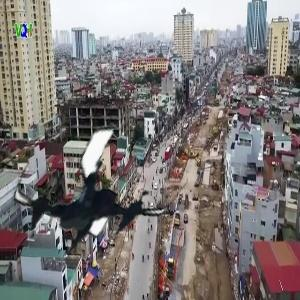drone: (18, 107, 181, 270)
